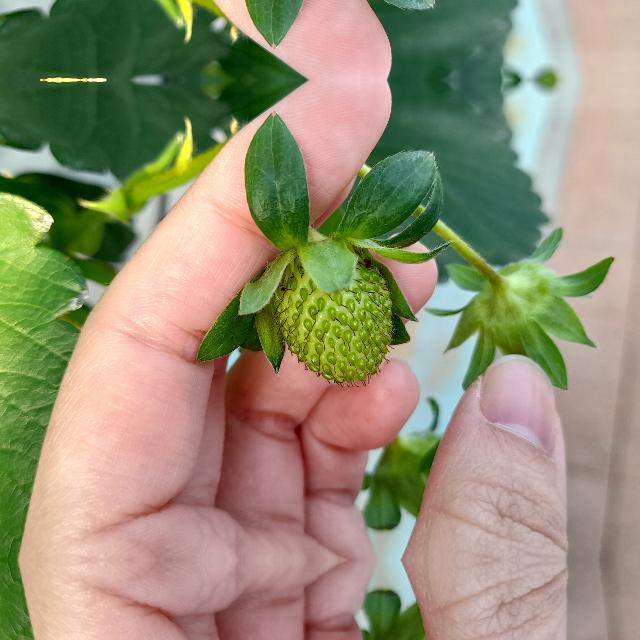Health_25: (272, 255, 396, 389)
